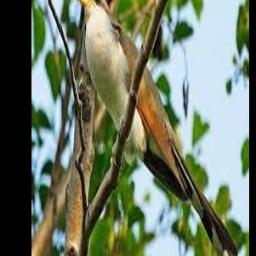Cuckoo: (75, 0, 238, 256)
